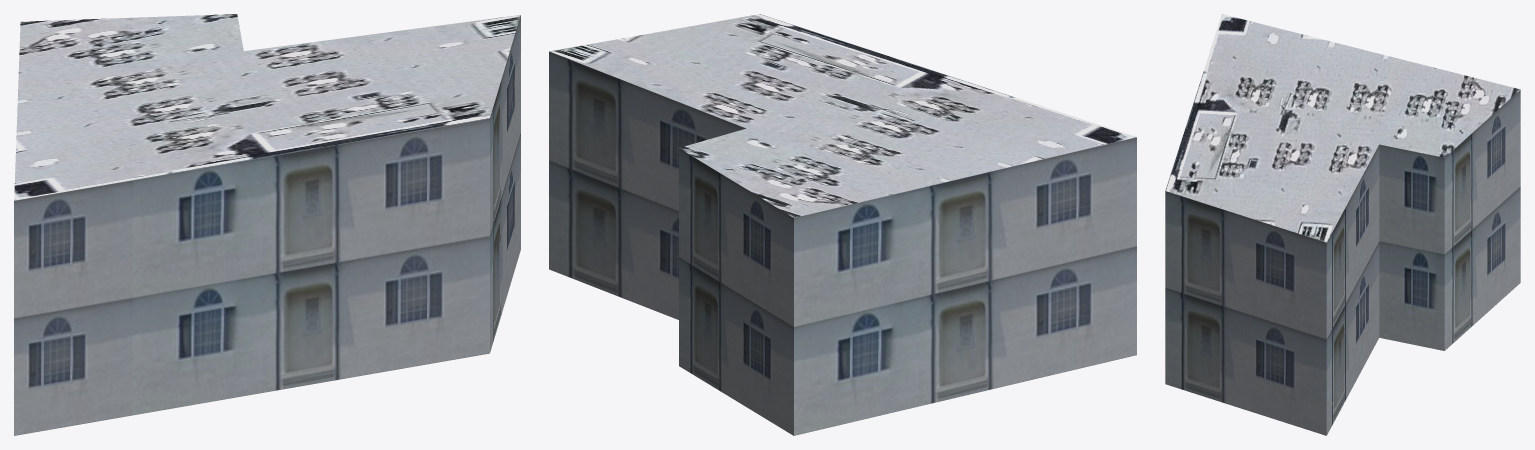
File: ResTex__4016.fbx
3 renders of one model, left to right at view 1: azimuth 30°, elevation 25°; view 2: azimuth 150°, elevation 25°; view 3: azimuth 270°, elevation 25°, orthographic. The views are drawn at different scales.
Visible parts, largest first — view 1: CityEngineMaterial_17_m, CityEngineMaterial_4_m; view 2: CityEngineMaterial_17_m, CityEngineMaterial_4_m; view 3: CityEngineMaterial_17_m, CityEngineMaterial_4_m.
Part boxes in pixels (x1=…): CityEngineMaterial_17_m: x1=14, y1=15, x2=520, y2=435; CityEngineMaterial_4_m: x1=14, y1=14, x2=520, y2=200; CityEngineMaterial_17_m: x1=549, y1=51, x2=1136, y2=435; CityEngineMaterial_4_m: x1=549, y1=14, x2=1136, y2=217; CityEngineMaterial_17_m: x1=1165, y1=90, x2=1520, y2=435; CityEngineMaterial_4_m: x1=1165, y1=14, x2=1520, y2=242.
Bounding box in the file's own units: 15.22 × 6 × 10.
2 materials, 2 textured.
